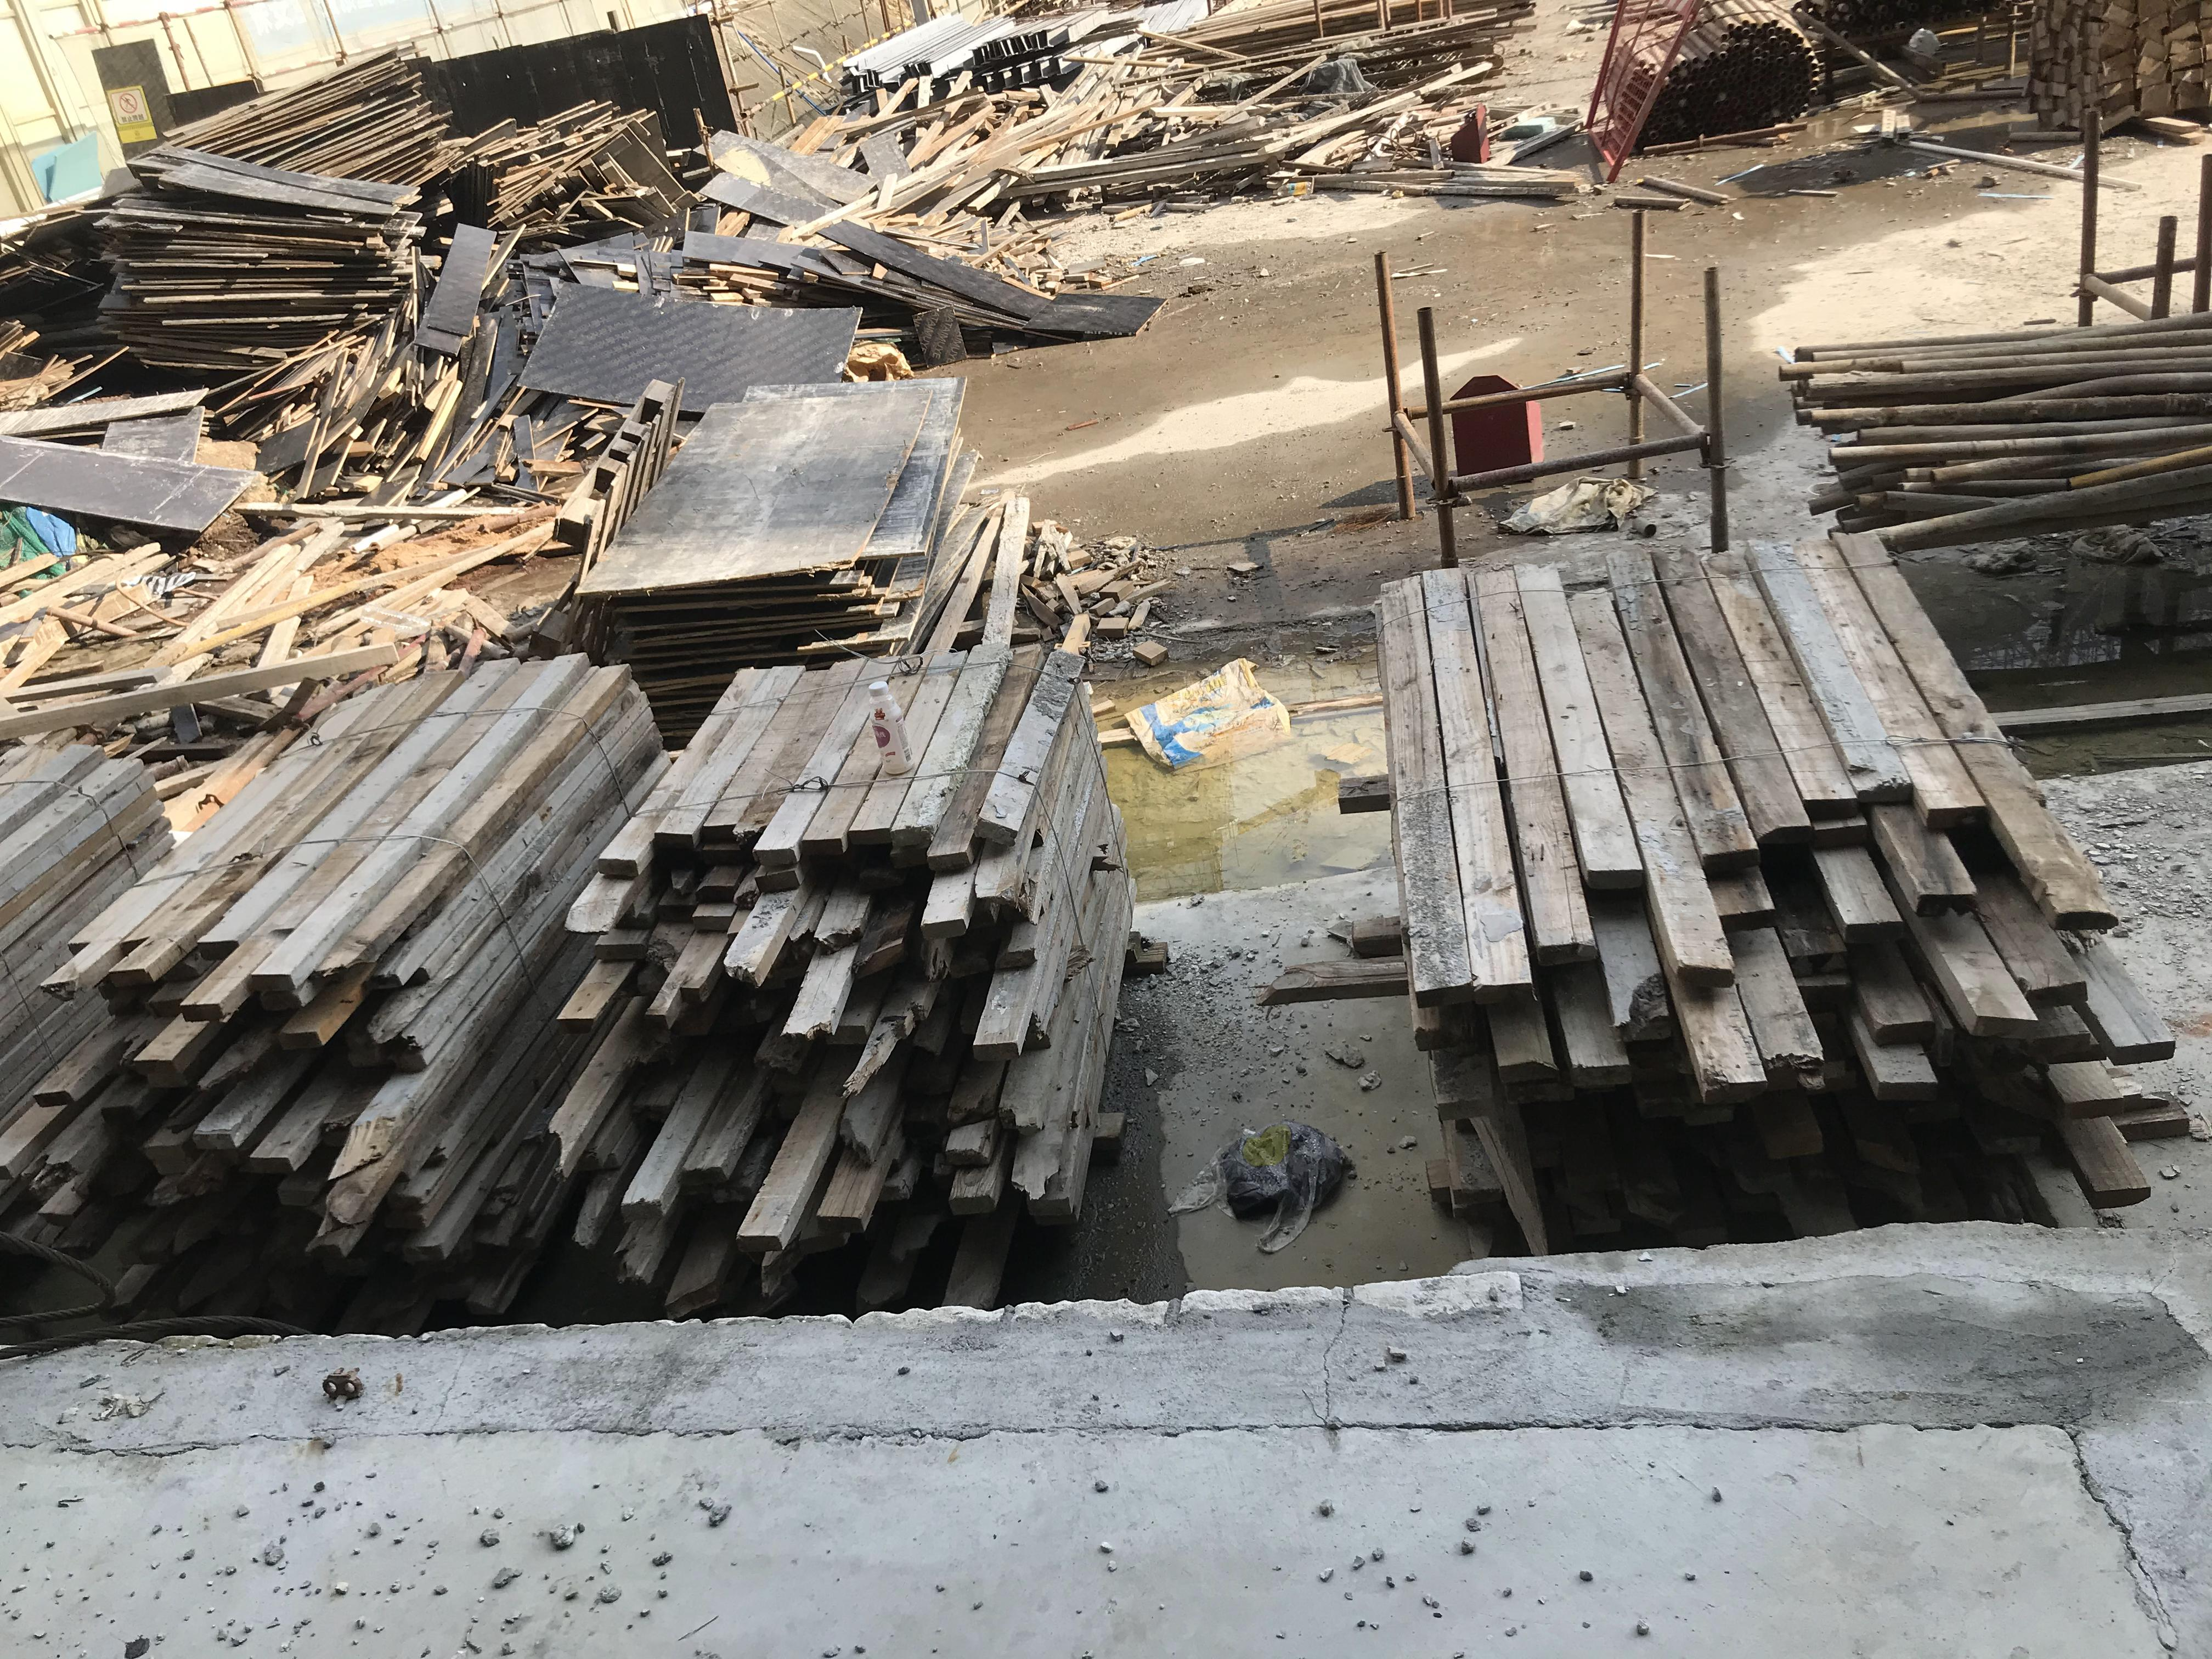board: (599, 383, 935, 667), (110, 166, 411, 373), (190, 45, 449, 192)
scaffold: (1797, 298, 2212, 537)
wood: (1374, 535, 2137, 1246), (59, 638, 657, 1293), (563, 650, 1127, 1297), (0, 741, 164, 1192)
